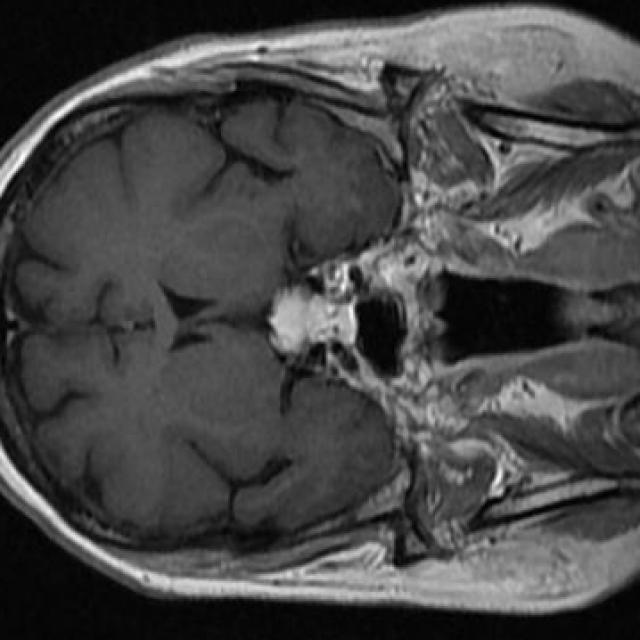meningioma: (266, 287, 357, 353)
